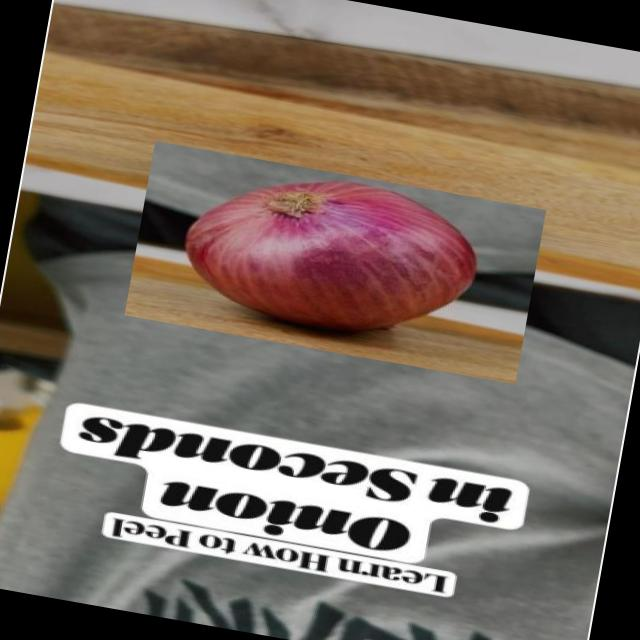Onion: (123, 140, 546, 385)
